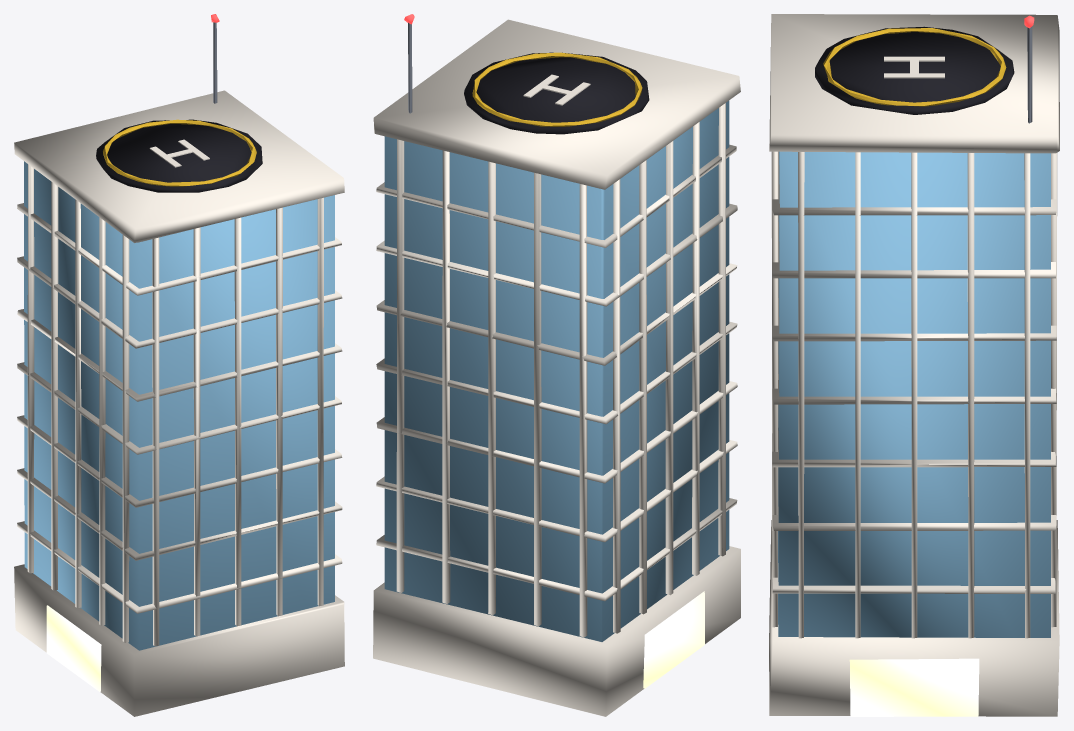
The model's file is office.glb.
3 renders of one model, left to right at view 1: azimuth 30°, elevation 25°; view 2: azimuth 150°, elevation 25°; view 3: azimuth 270°, elevation 25°, orthographic. The views are drawn at different scales.
Visible parts, largest first — view 1: office; view 2: office; view 3: office.
Boxes of the visible parts, x1,y1,x2,y2 form: office: (14,14,344,716); office: (373,14,740,716); office: (769,14,1059,716).
Size of the model in its own units: 13.47 by 34.95 by 13.37.
Materials: 1 (1 with a texture image).
